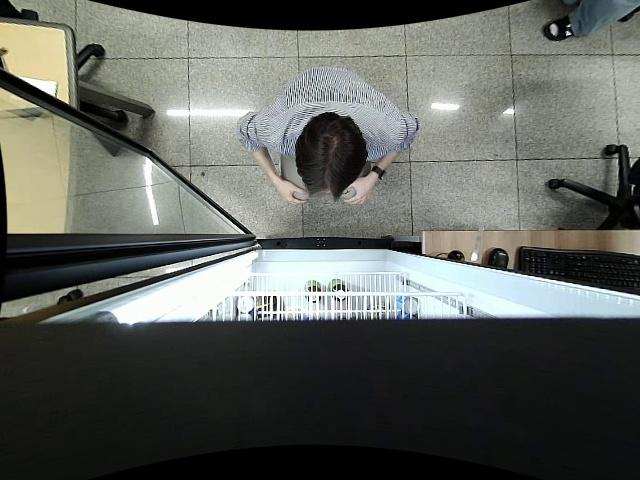00_hand: (343, 177, 371, 205), (280, 179, 309, 205)
